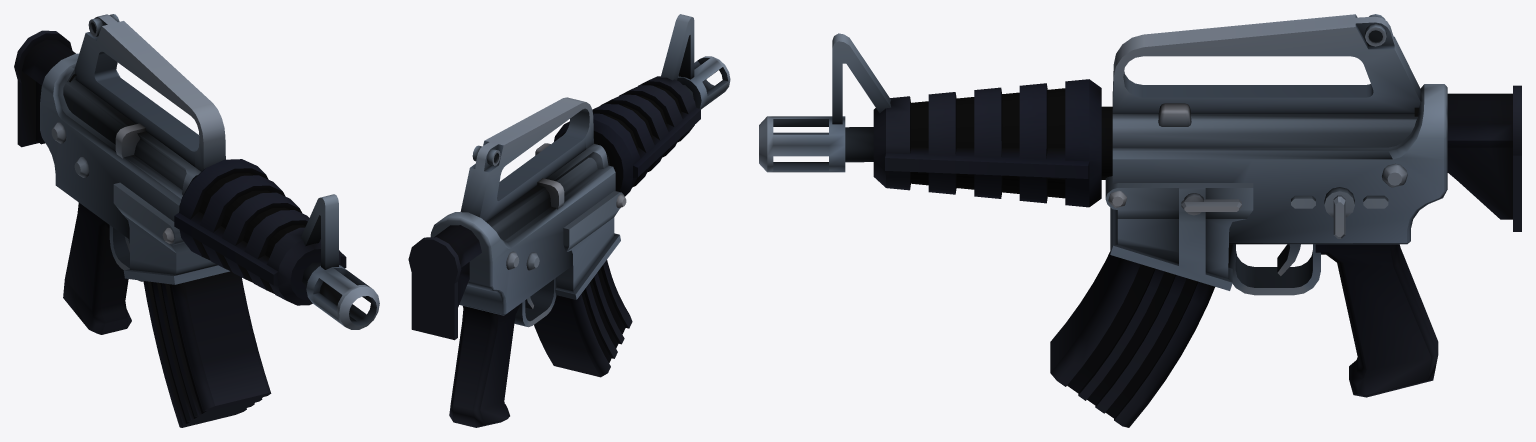
Rendered from FireArms_Assault_Rifle_A.gltf.
3 views of the same model, side by side, from view 1: azimuth 30°, elevation 25°; view 2: azimuth 150°, elevation 25°; view 3: azimuth 270°, elevation 25° (orthographic). The views are drawn at different scales.
Parts seen in each view (by area): view 1: FireArms_Assault_Rifle_A; view 2: FireArms_Assault_Rifle_A; view 3: FireArms_Assault_Rifle_A.
Boxes of the visible parts, left/top/right/bottom form: FireArms_Assault_Rifle_A: left=14, top=14, right=379, bottom=427; FireArms_Assault_Rifle_A: left=408, top=14, right=730, bottom=427; FireArms_Assault_Rifle_A: left=759, top=14, right=1521, bottom=427.
Bounding box in the file's own units: 0.2284 × 0.6659 × 1.17.
Materials: 2 (2 with a texture image).
